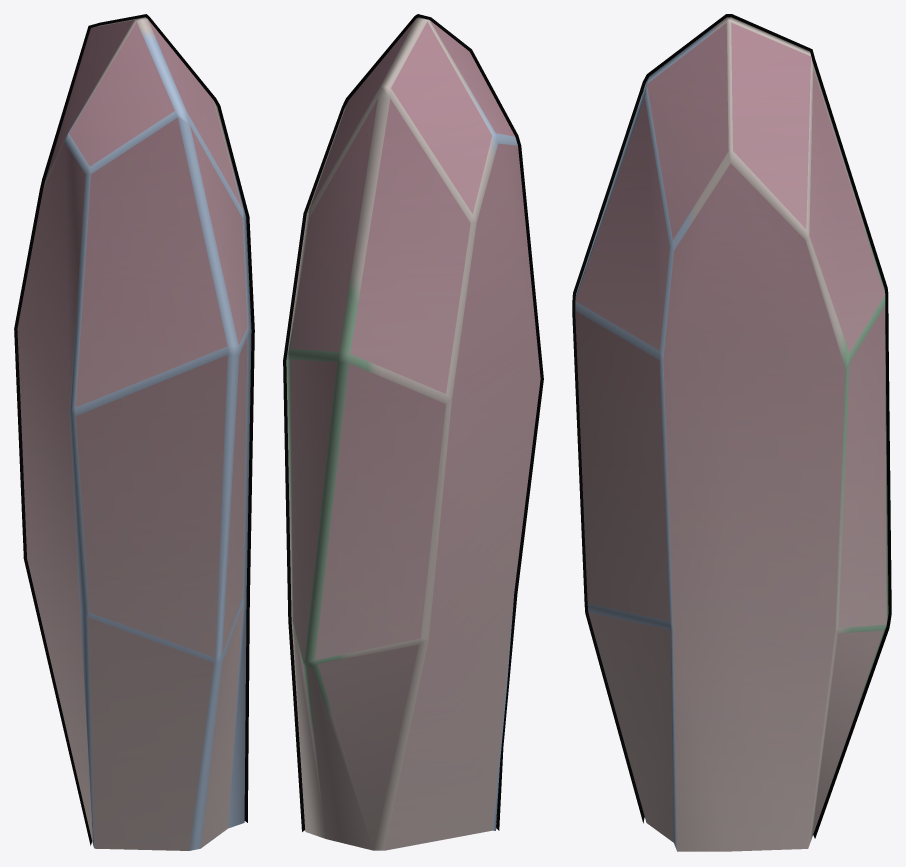
The model's file is crystal-crossroads__Crystal_Small_01.glb.
3 renders of one model, left to right at view 1: azimuth 30°, elevation 25°; view 2: azimuth 150°, elevation 25°; view 3: azimuth 270°, elevation 25°, orthographic.
Visible parts, largest first — view 1: Crystal_Small_01; view 2: Crystal_Small_01; view 3: Crystal_Small_01.
Part boxes in pixels (x1=…): Crystal_Small_01: x1=14, y1=14, x2=254, y2=850; Crystal_Small_01: x1=283, y1=14, x2=543, y2=850; Crystal_Small_01: x1=572, y1=14, x2=891, y2=851.
Bounding box in the file's own units: 1.09 × 4.74 × 1.72.
2 materials, 1 textured.
